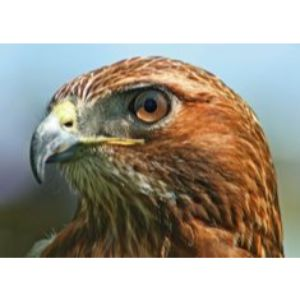hawk: (17, 52, 288, 256)
